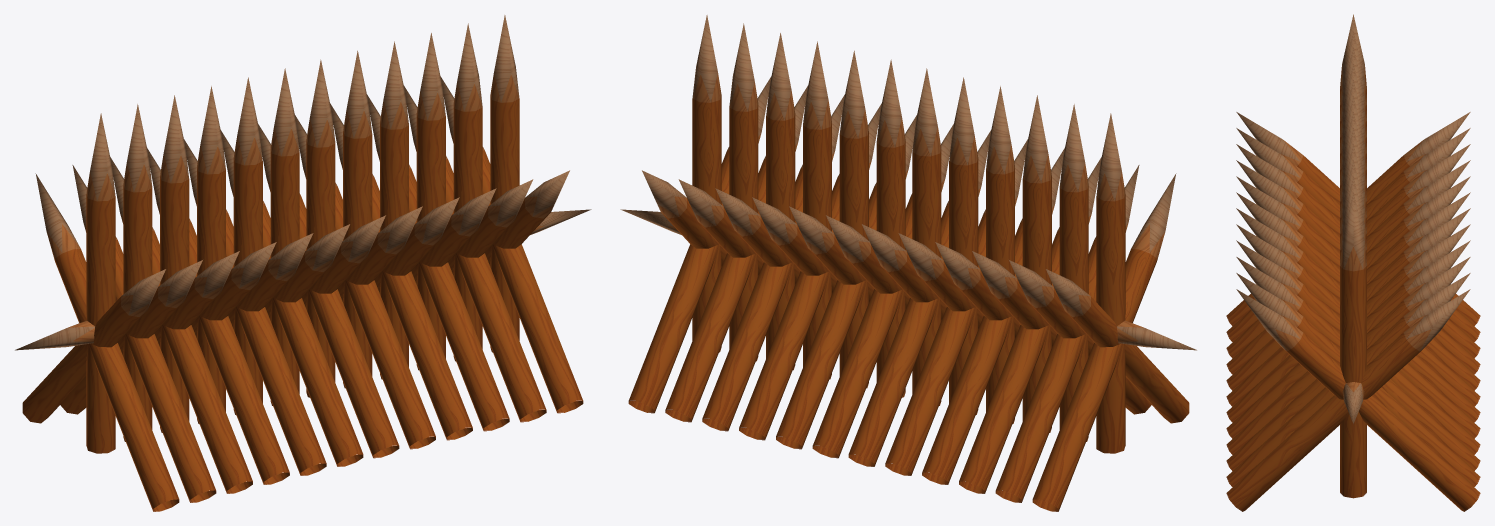
File: 바리게이트.fbx
The picture shows the model from 3 angles, left to right: view 1: azimuth 30°, elevation 25°; view 2: azimuth 150°, elevation 25°; view 3: azimuth 270°, elevation 25°; orthographic projection. The views are drawn at different scales.
Visible parts, largest first — view 1: Base; view 2: Base; view 3: Base.
Boxes of the visible parts, <box> form: Base: <box>15,15,591,511</box>; Base: <box>620,15,1196,511</box>; Base: <box>1226,14,1480,511</box>.
Size of the model in its own units: 114 by 66.63 by 48.1.
